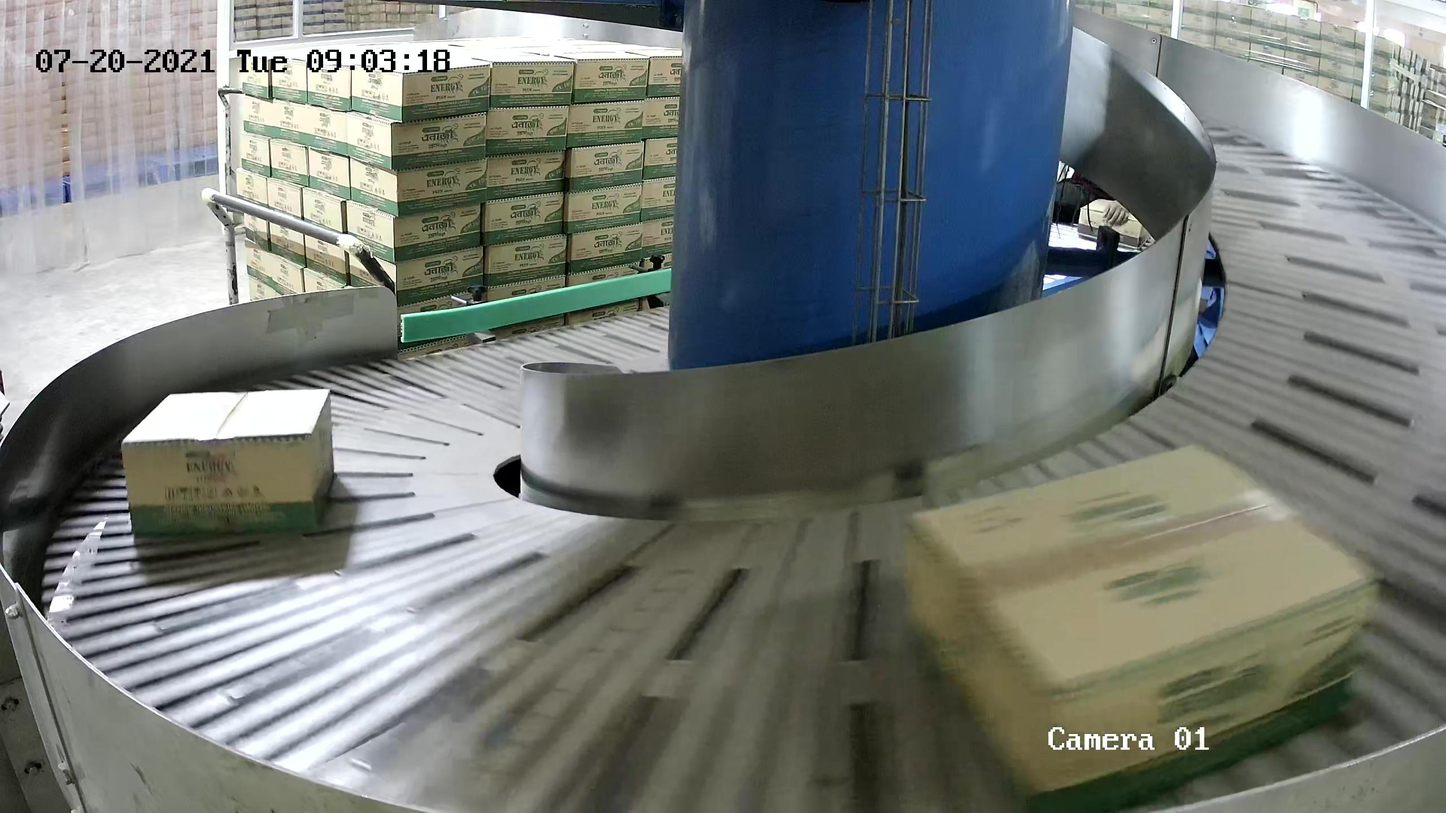Box: (901, 440, 1387, 813), (120, 387, 335, 536)
